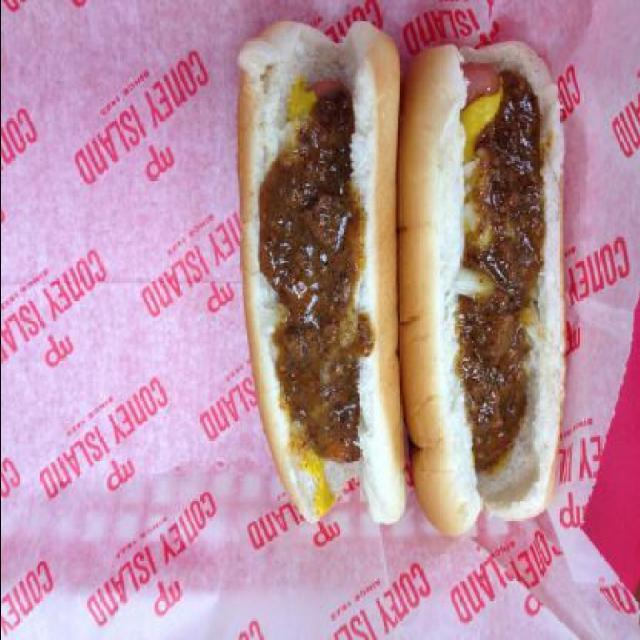Hot dog: (388, 28, 566, 540), (236, 18, 402, 524)
